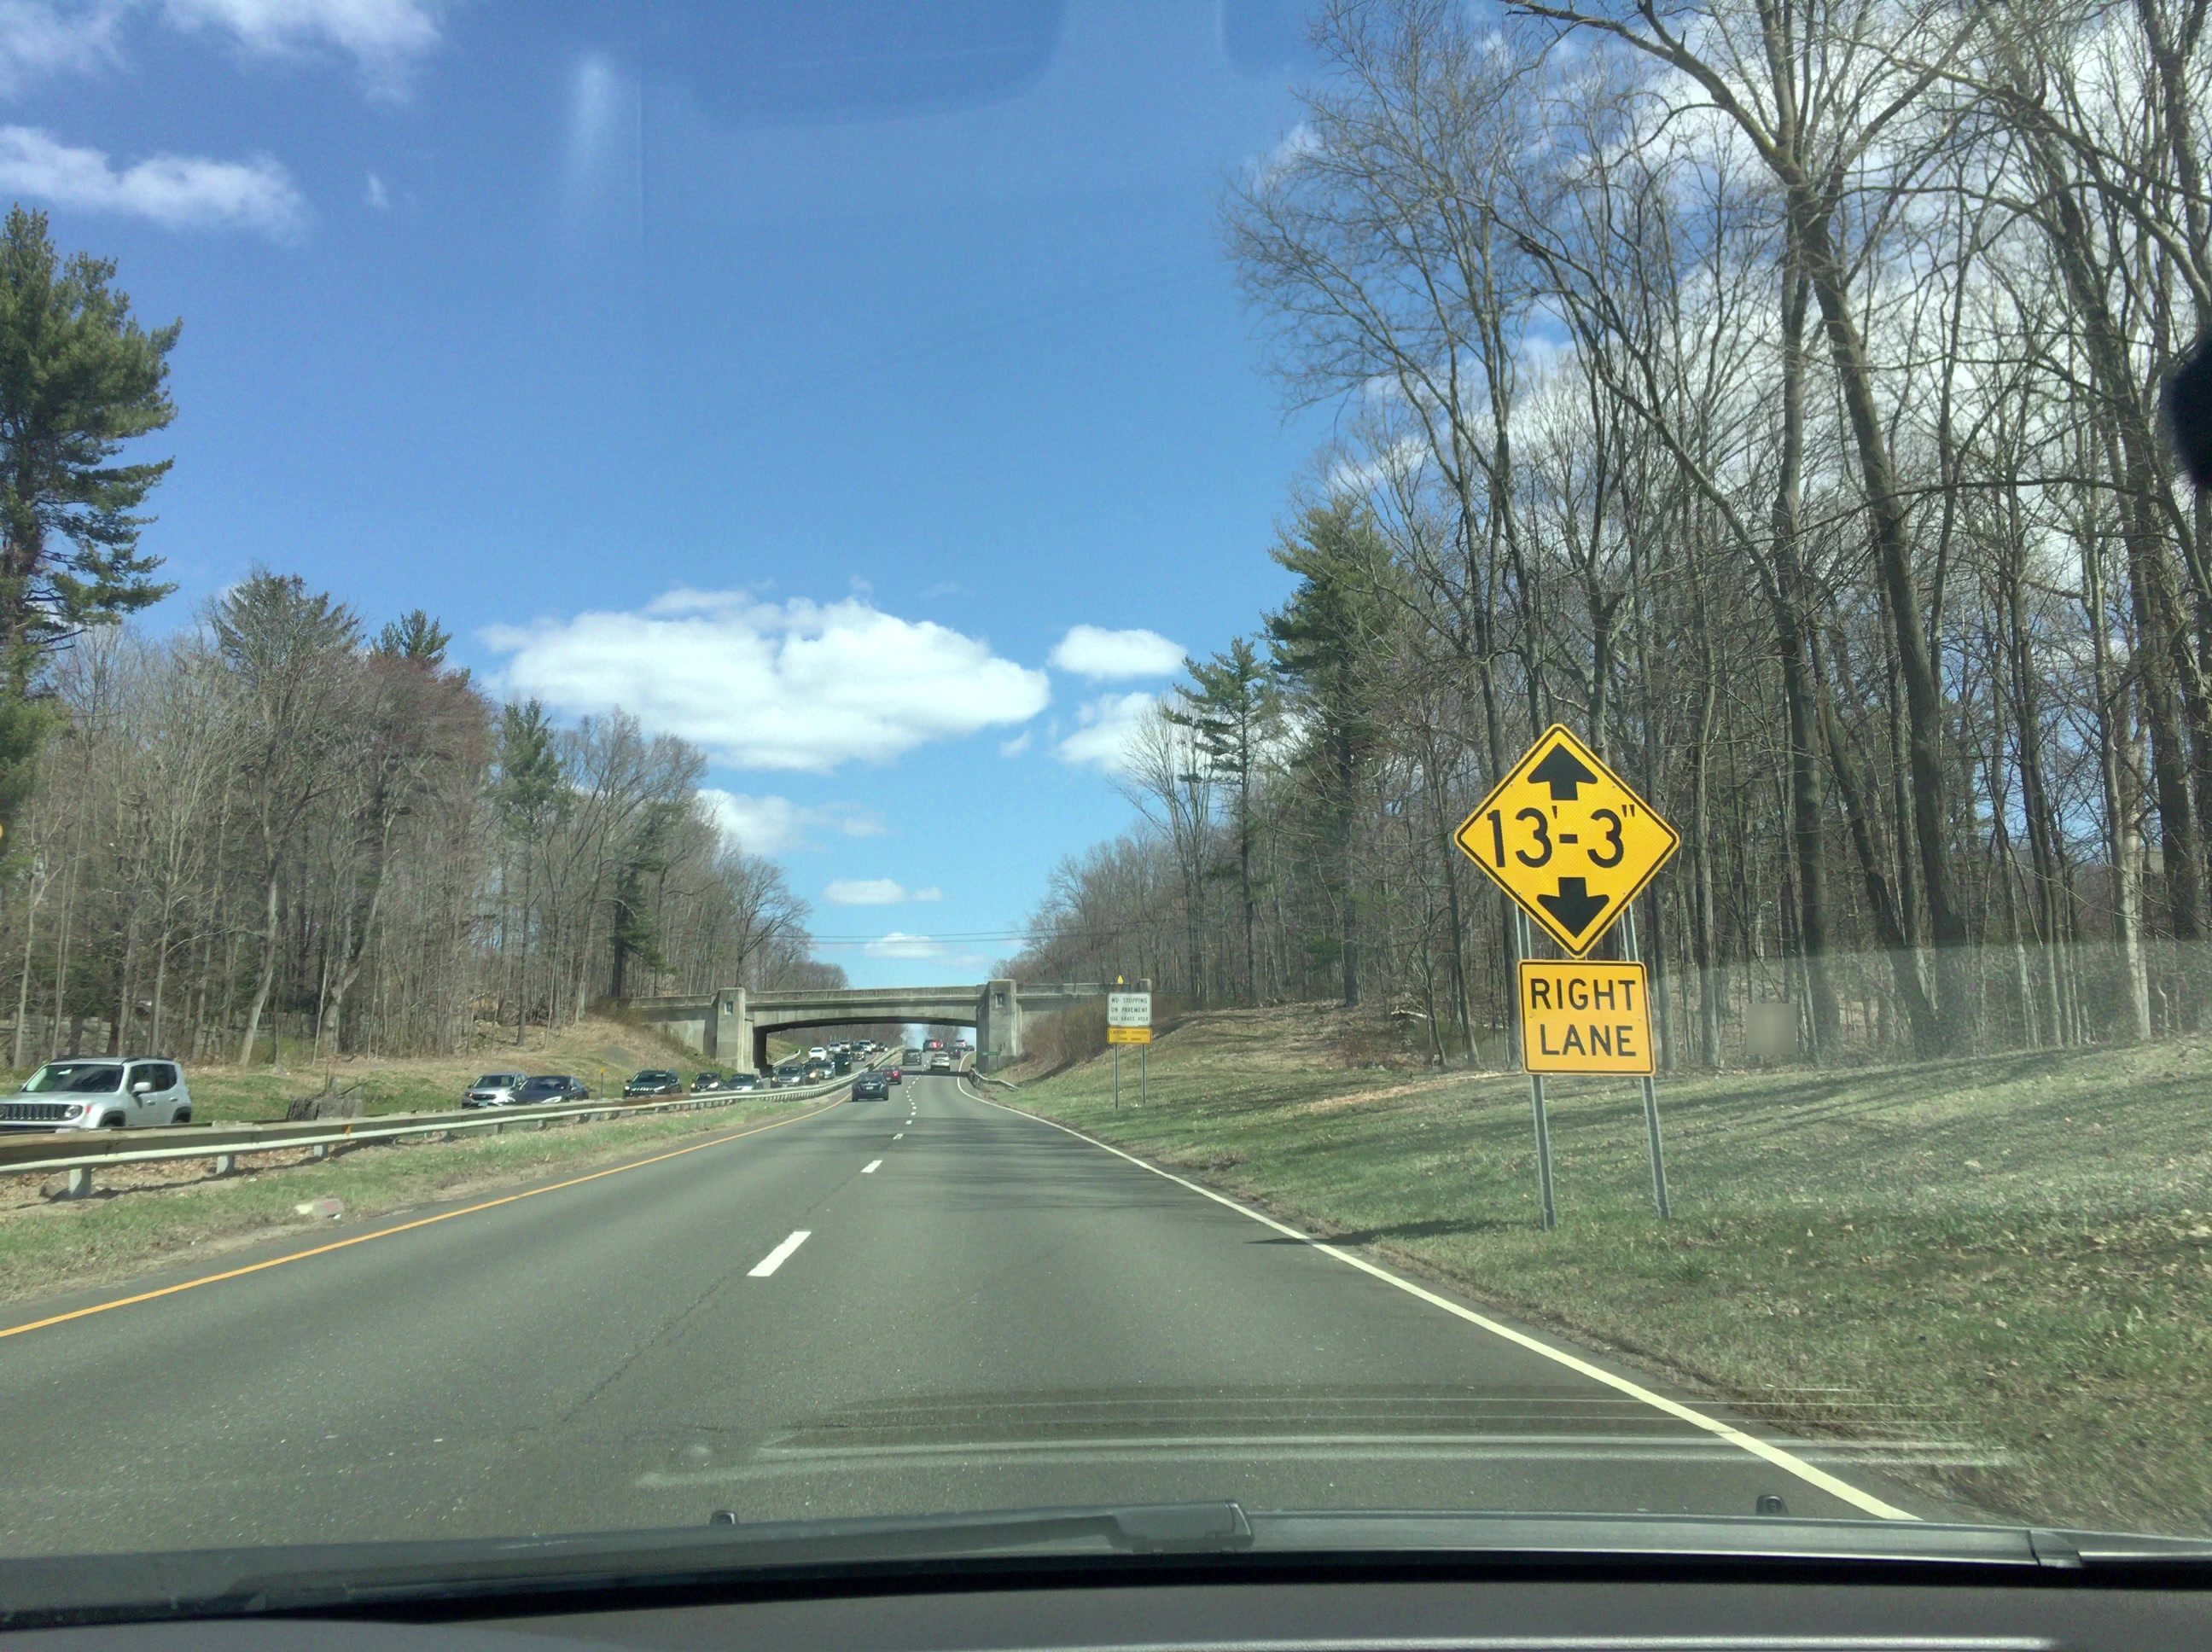low-clearance-sign: (1454, 722, 1681, 958)
